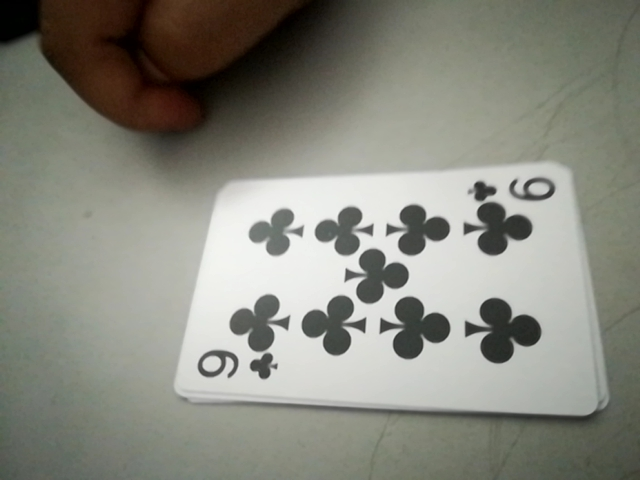mh 9: (191, 346, 283, 393), (469, 170, 559, 207)
